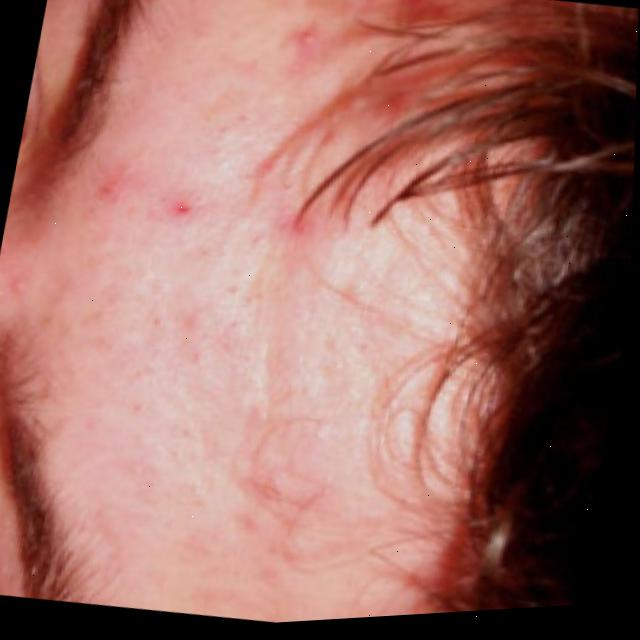Acne: (32, 0, 410, 589)
